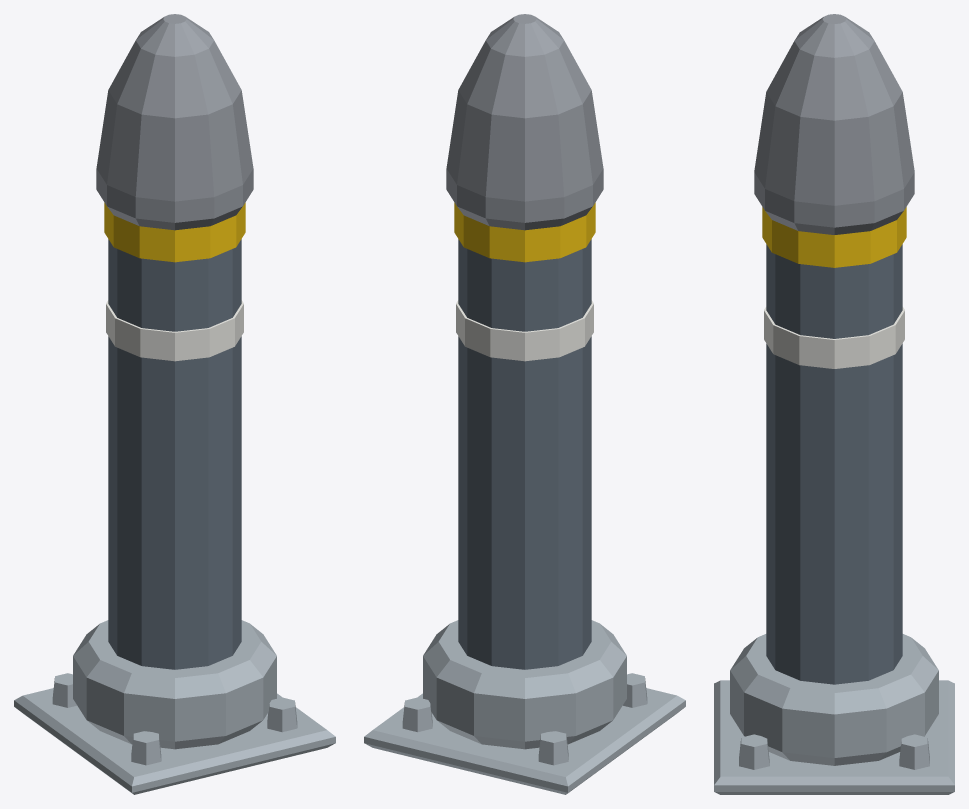
The model's file is PROP_09.obj.
3 views of the same model, side by side, from view 1: azimuth 30°, elevation 25°; view 2: azimuth 150°, elevation 25°; view 3: azimuth 270°, elevation 25° (orthographic). The views are drawn at different scales.
Parts seen in each view (by area): view 1: PROP_09__shaft, PROP_09__cap, PROP_09__collar, PROP_09__base, PROP_09__band; view 2: PROP_09__shaft, PROP_09__cap, PROP_09__collar, PROP_09__base, PROP_09__band; view 3: PROP_09__shaft, PROP_09__cap, PROP_09__collar, PROP_09__base, PROP_09__band.
Part boxes in pixels (x1,y1,x2,y2): PROP_09__shaft: (108,239,241,669); PROP_09__cap: (96,14,253,230); PROP_09__collar: (73,620,276,749); PROP_09__base: (14,673,335,794); PROP_09__band: (104,202,245,361); PROP_09__shaft: (458,239,591,669); PROP_09__cap: (446,14,603,230); PROP_09__collar: (423,620,626,749); PROP_09__base: (364,673,685,794); PROP_09__band: (454,202,595,361); PROP_09__shaft: (766,244,902,684); PROP_09__cap: (754,14,914,234); PROP_09__collar: (730,634,938,765); PROP_09__base: (714,680,954,794); PROP_09__band: (762,207,906,368).
Bounding box in the file's own units: 0.3 × 1 × 0.3.
